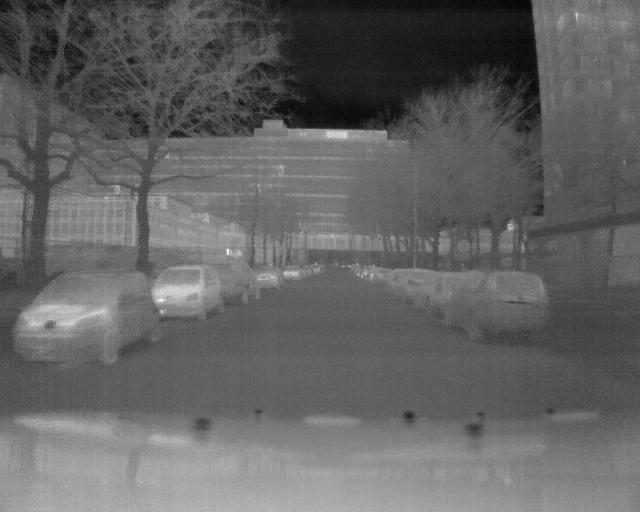car: (11, 266, 161, 367), (450, 273, 550, 341), (153, 261, 225, 320), (215, 254, 261, 301), (401, 266, 432, 305), (372, 266, 396, 285), (283, 265, 305, 282)
